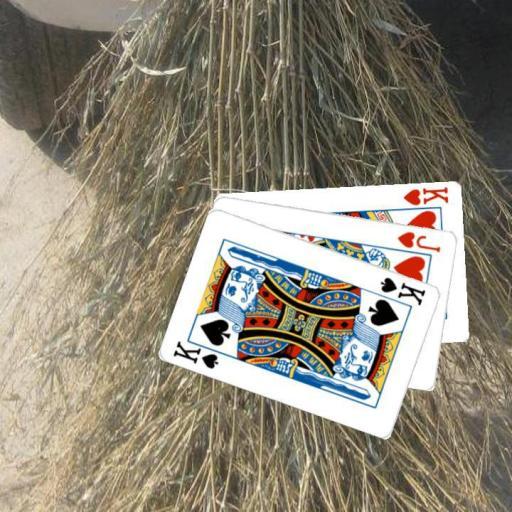JH: (395, 228, 442, 253)
KH: (400, 184, 450, 207)
KS: (171, 335, 228, 370), (377, 274, 427, 306)
